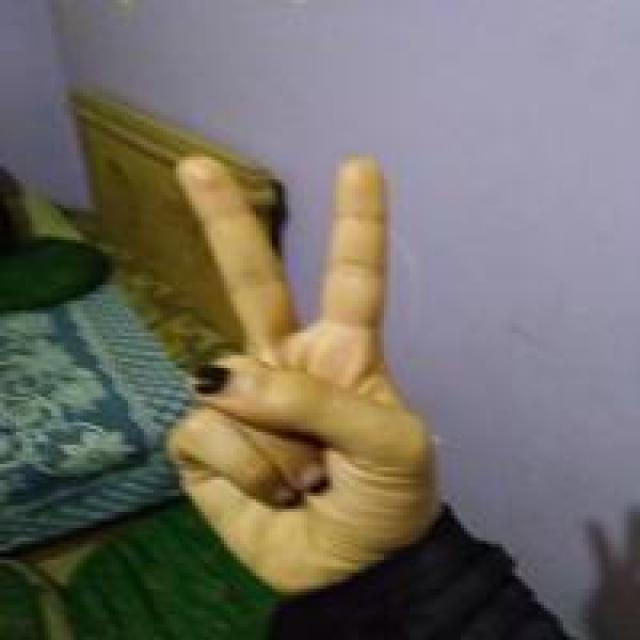V: (150, 144, 448, 589)
